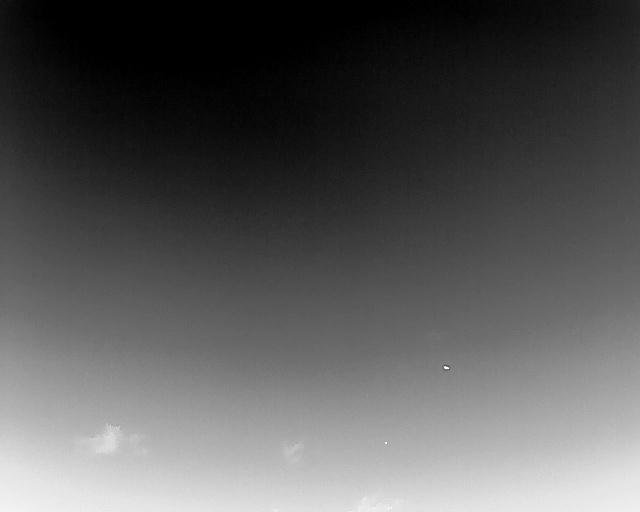fpv-drone: (443, 365, 450, 370)
